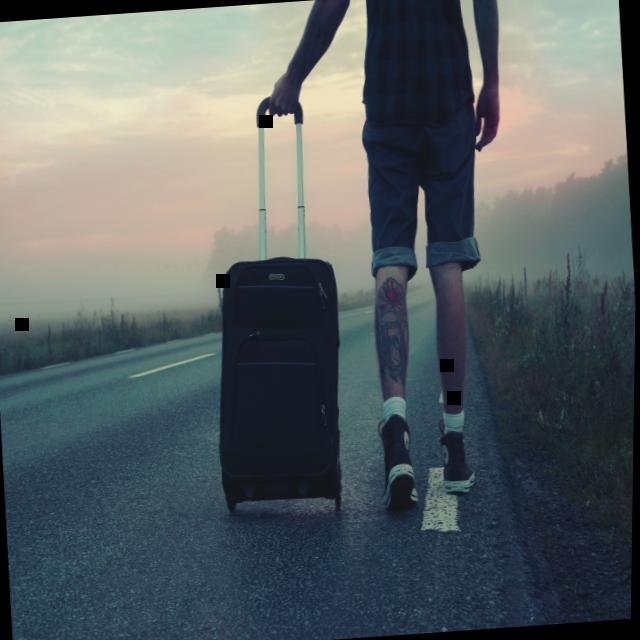luggage: (205, 248, 359, 512)
